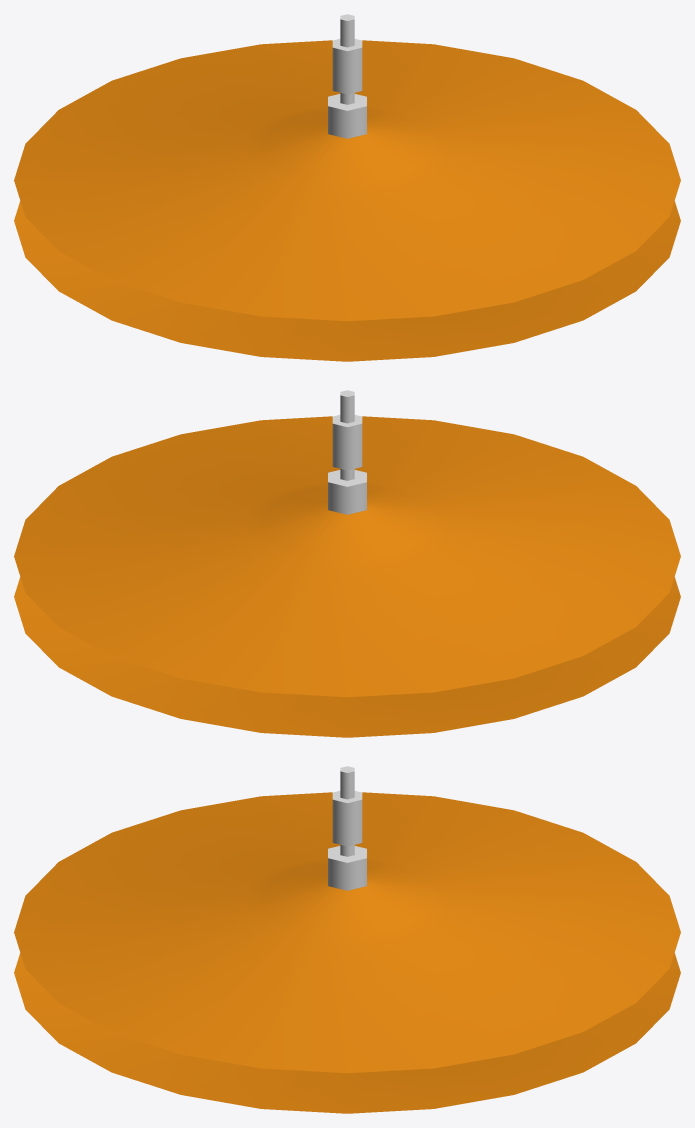
Rendered from Charley.FBX.
3 views of the same model, one above another, from view 1: azimuth 30°, elevation 25°; view 2: azimuth 150°, elevation 25°; view 3: azimuth 270°, elevation 25° (orthographic).
Visible parts, largest first — view 1: Cymbal Top, Cymbal Bottom, Cylinder; view 2: Cymbal Top, Cymbal Bottom, Cylinder; view 3: Cymbal Top, Cymbal Bottom, Cylinder.
Part boxes in pixels (x1,y1,x2,y2): Cymbal Top: [14, 40, 680, 321]; Cymbal Bottom: [14, 201, 680, 361]; Cylinder: [328, 14, 366, 138]; Cymbal Top: [14, 416, 680, 697]; Cymbal Bottom: [14, 577, 680, 737]; Cylinder: [328, 390, 366, 514]; Cymbal Top: [14, 792, 680, 1073]; Cymbal Bottom: [14, 953, 680, 1113]; Cylinder: [328, 766, 366, 890].
Size of the model in its own units: 52.52 by 27.85 by 52.52.
